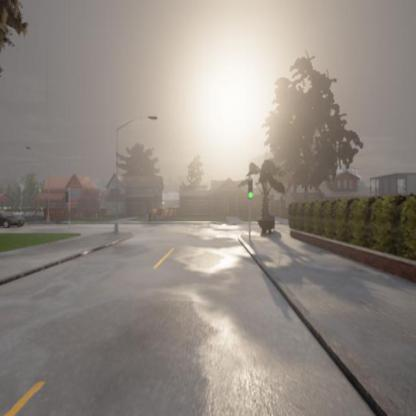traffic_light_green: (246, 179, 253, 200)
vehicle: (0, 208, 28, 229)
